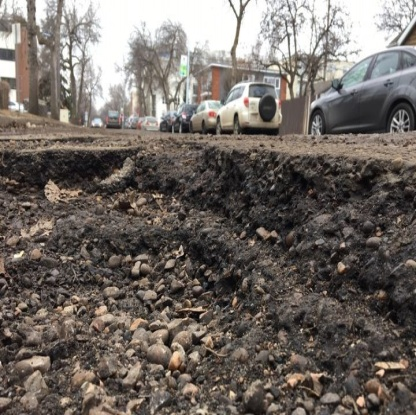pothole: (1, 130, 413, 413)
